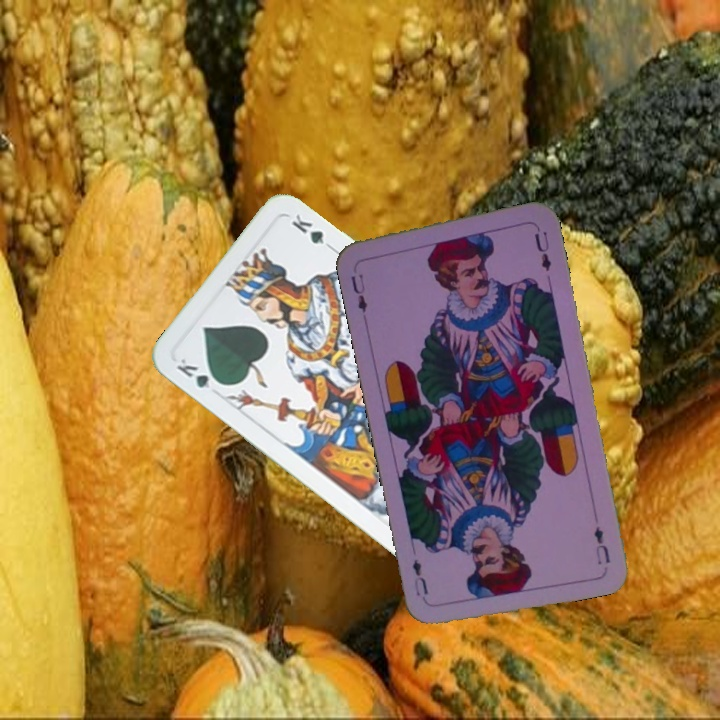EU: (346, 270, 370, 315), (590, 522, 613, 568)
GK: (173, 354, 227, 392)
